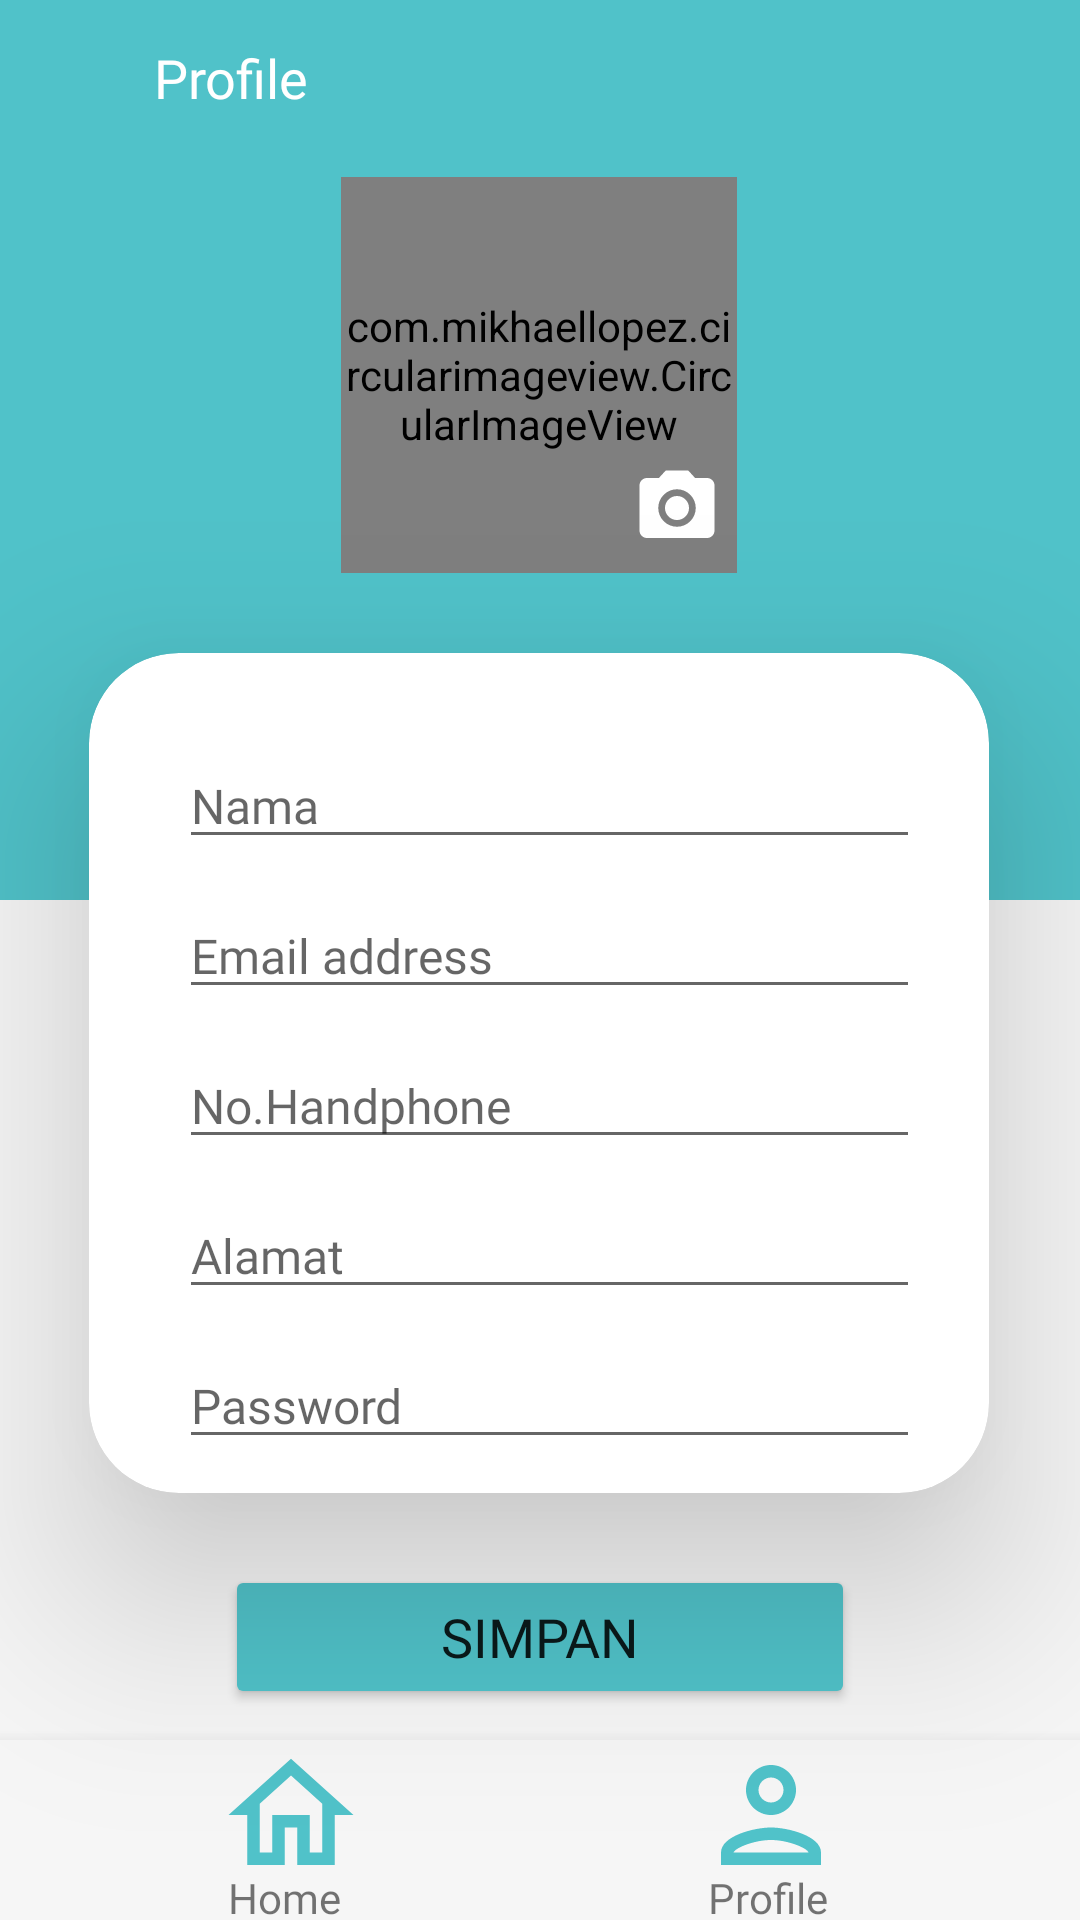

Icons on this 1080×1920 Android screen, each with its box as (x1, y1, x2, y2):
camera: (639, 470, 715, 538)
person: (721, 1765, 821, 1865)
